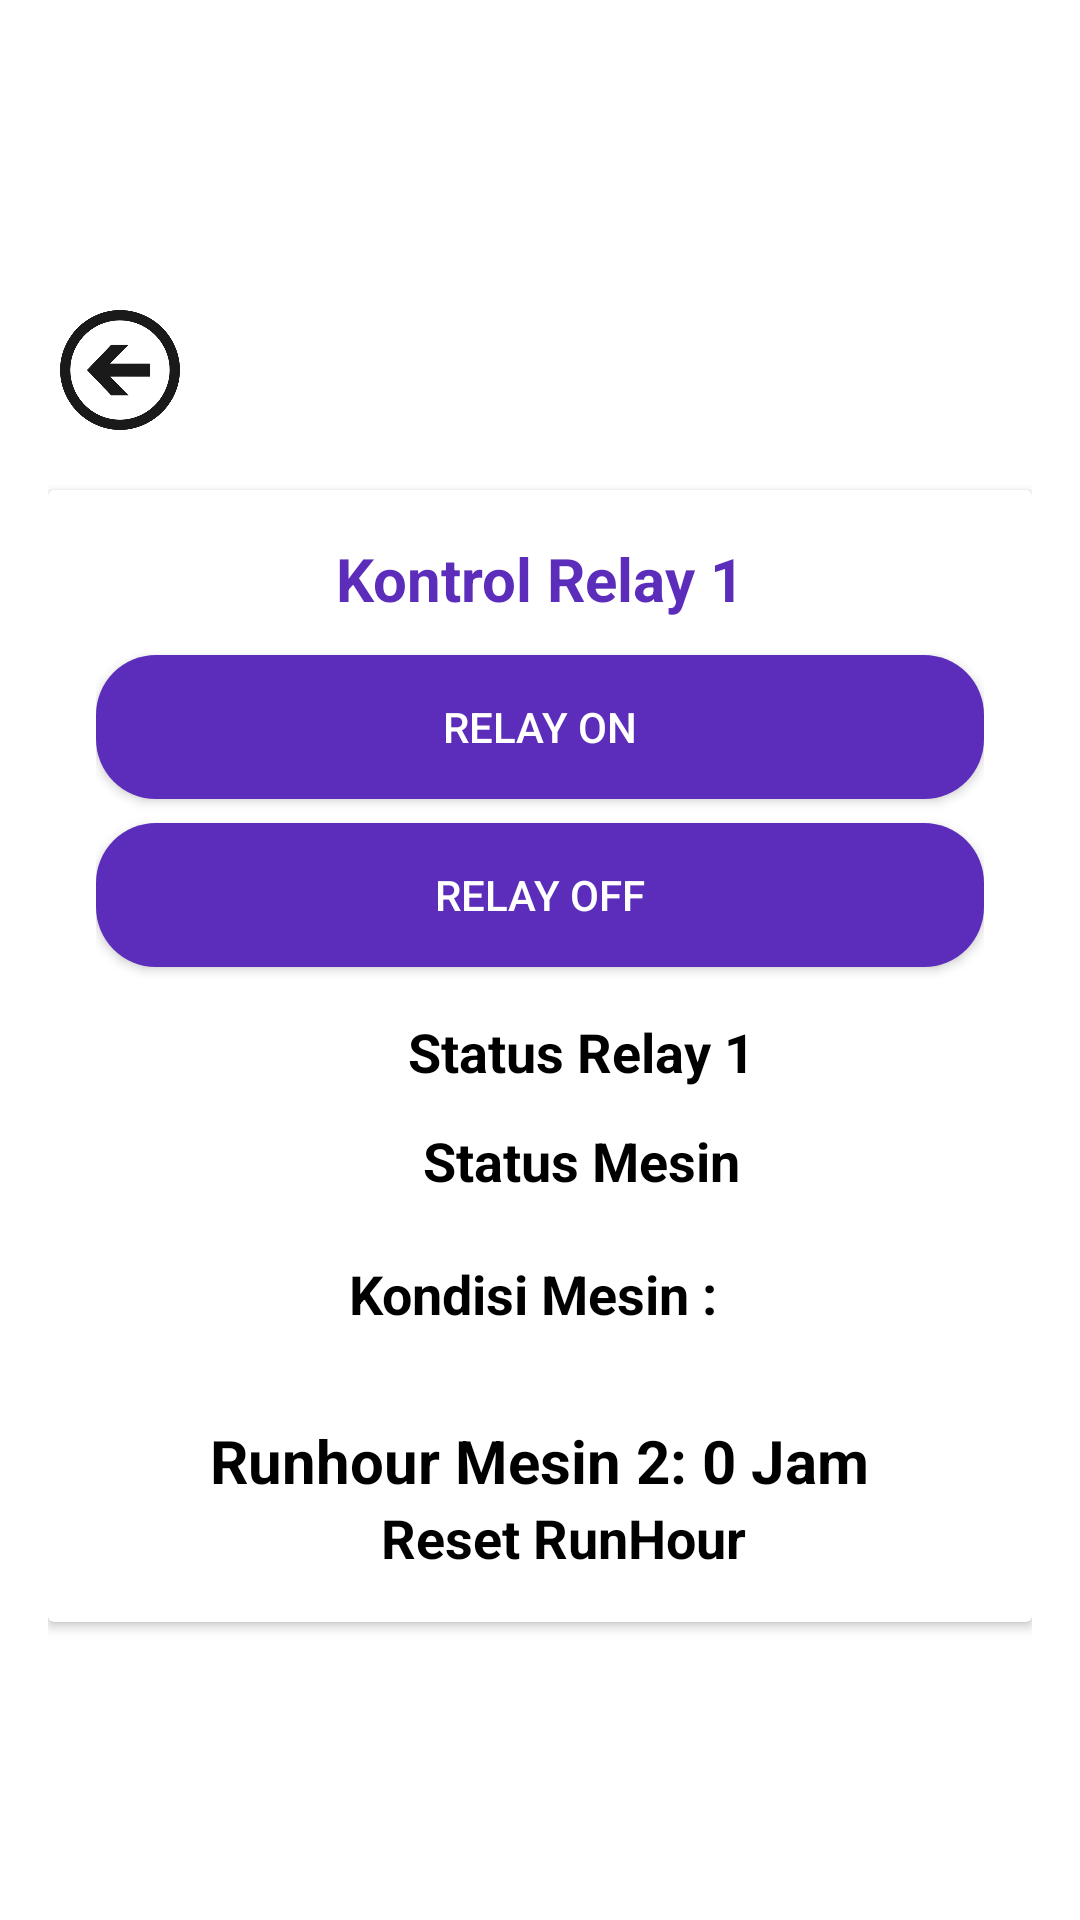

Locate icon controls on the screen. Image size 1080w x 1920h, boxes as [left=x1, top=y1, right=x2, bottom=y2].
Kembali: [left=60, top=310, right=180, bottom=430]
